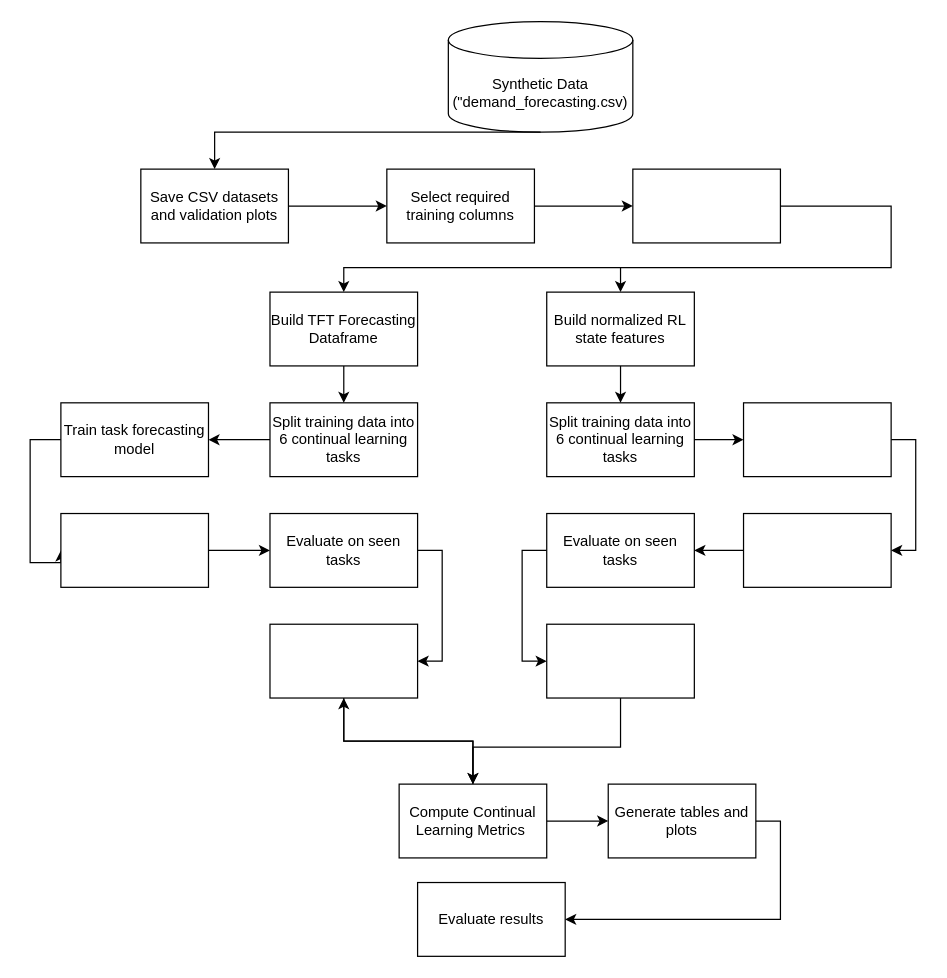
Image size: 947x978. Some labels were removed from this diagram. Each missing label, with the centre of its shape:
Apply forecasting continual learning methods: [134,549]
Apply RL continual learning methods: [816,549]
Clean missing values and data types: [706,205]
Compute Forecasting Metrics: [343,660]
Compute RL Metrics: [620,660]
Train task RL model: [816,439]
